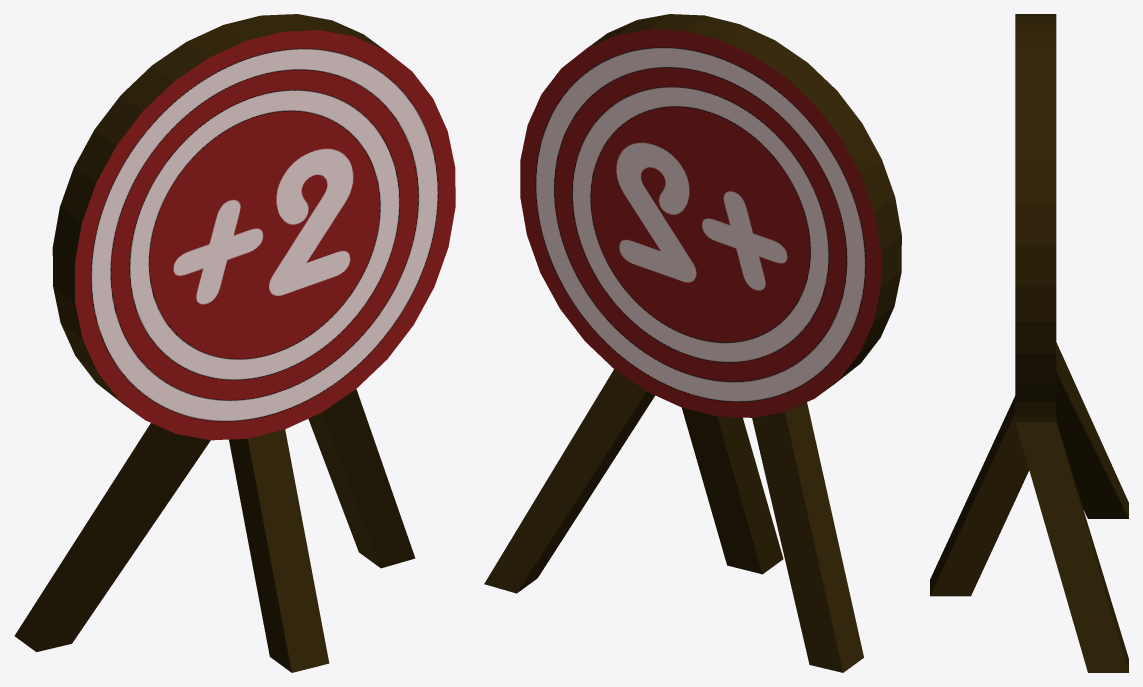
Rendered from renk4.fbx.
3 renders of one model, left to right at view 1: azimuth 30°, elevation 25°; view 2: azimuth 150°, elevation 25°; view 3: azimuth 270°, elevation 25°, orthographic. The views are drawn at different scales.
Visible parts, largest first — view 1: Cylinder; view 2: Cylinder; view 3: Cylinder.
Part boxes in pixels (x1=…): Cylinder: x1=14, y1=14, x2=455, y2=672; Cylinder: x1=484, y1=14, x2=901, y2=672; Cylinder: x1=930, y1=14, x2=1128, y2=672.
Bounding box in the file's own units: 199 × 299 × 97.2.
Materials: 2 (1 with a texture image).
